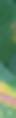Tomato Early blight leaf: (0, 49, 16, 118)
